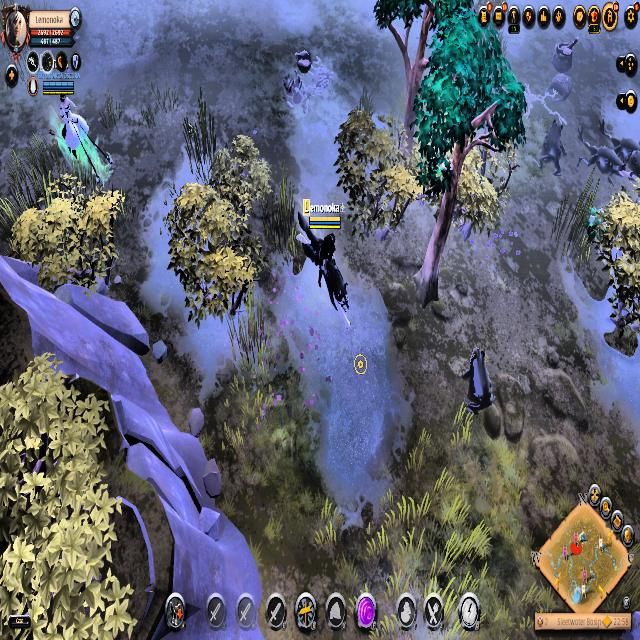wood tier 3: (413, 35, 528, 202)
